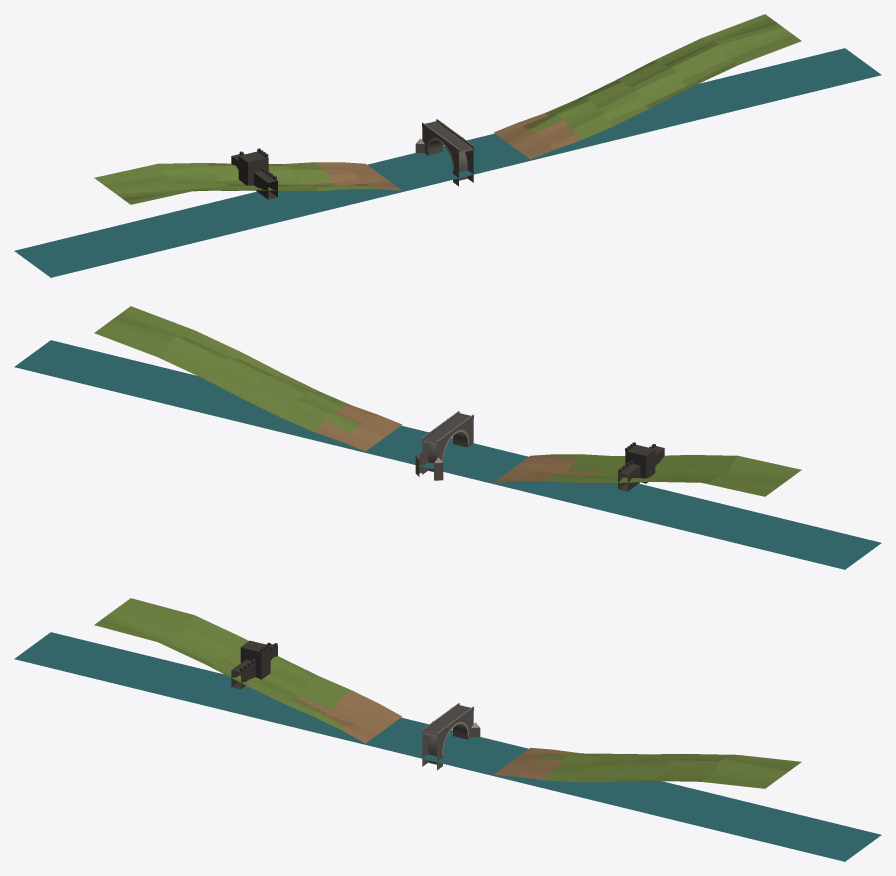
The model's file is OnGozluBridge.fbx.
The picture shows the model from 3 angles, top to bottom: view 1: azimuth 30°, elevation 25°; view 2: azimuth 150°, elevation 25°; view 3: azimuth 330°, elevation 25°; orthographic projection.
Parts seen in each view (by area): view 1: BridgeSegment; view 2: BridgeSegment; view 3: BridgeSegment.
Part boxes in pixels (<box>): BridgeSegment: <box>14,14,881,277</box>; BridgeSegment: <box>14,306,881,569</box>; BridgeSegment: <box>14,598,881,861</box>.
Bounding box in the file's own units: 520 × 38 × 43.2.
